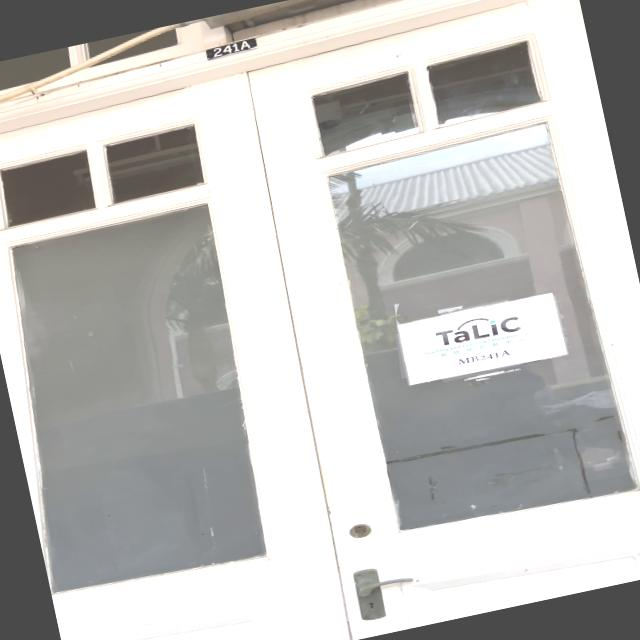room241a: (198, 33, 262, 65)
